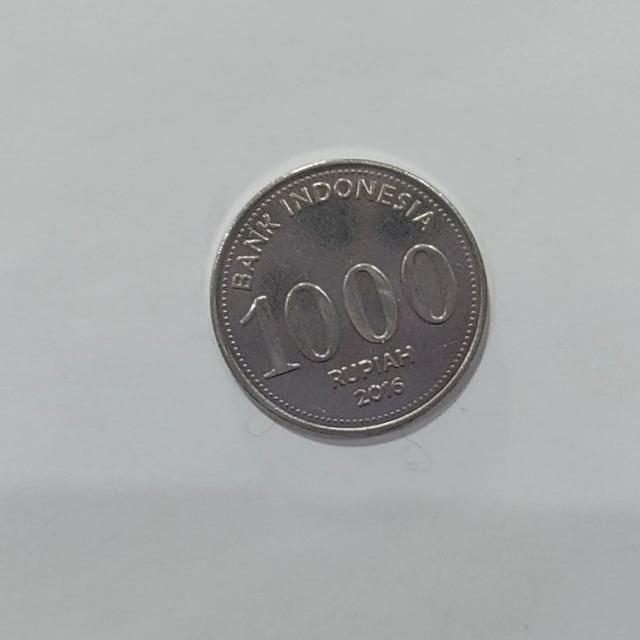Rp100: (207, 154, 490, 444)
